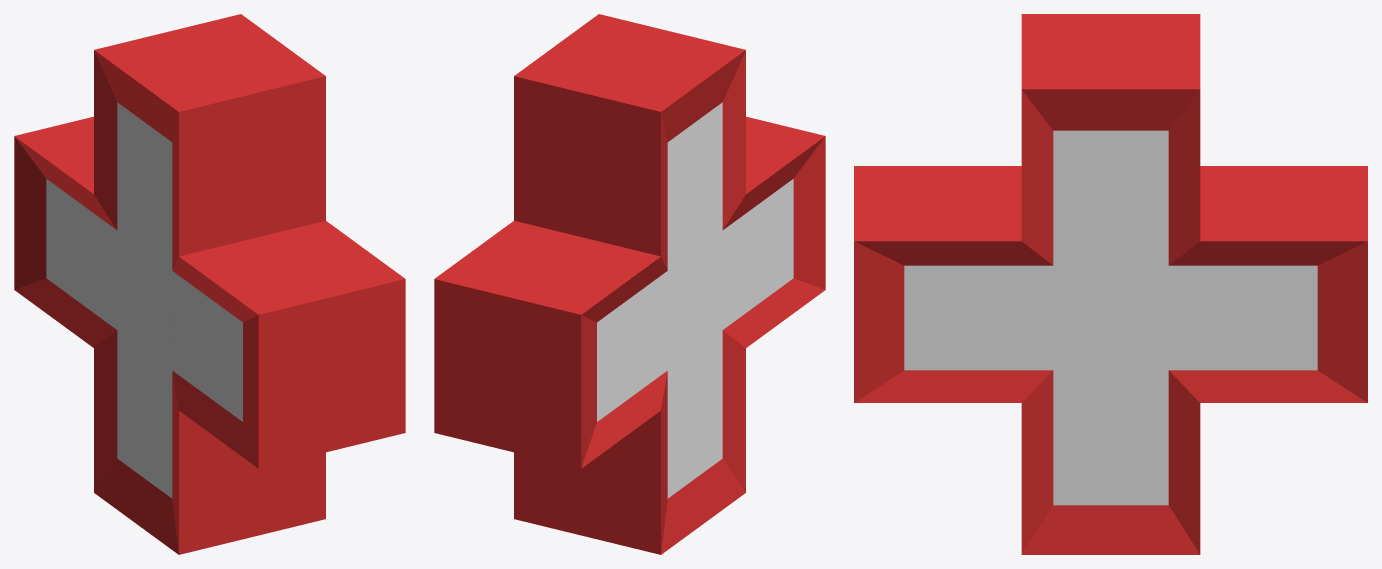
Rendered from MedicKit.dae.
3 renders of one model, left to right at view 1: azimuth 30°, elevation 25°; view 2: azimuth 150°, elevation 25°; view 3: azimuth 270°, elevation 25°, orthographic. The views are drawn at different scales.
Visible parts, largest first — view 1: Cube; view 2: Cube; view 3: Cube.
Boxes of the visible parts, x1,y1,x2,y2 form: Cube: [14, 14, 405, 554]; Cube: [434, 14, 825, 554]; Cube: [854, 14, 1367, 554].
Size of the model in its own units: 2 by 5.76 by 5.76.
